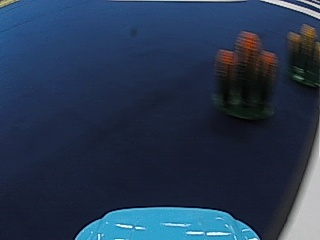corn: (213, 25, 280, 122)
